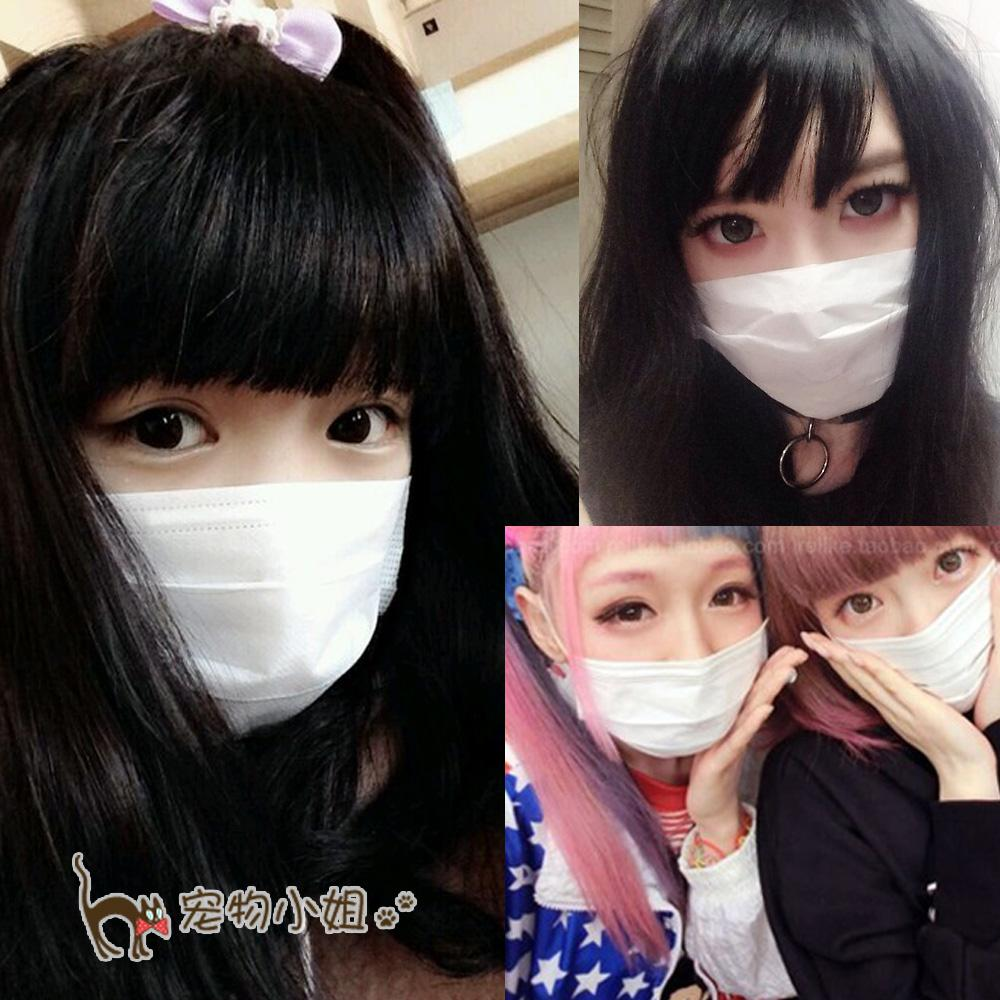OK: (39, 280, 497, 738), (672, 136, 955, 419)
WRONG: (572, 539, 786, 753), (825, 523, 998, 696)
